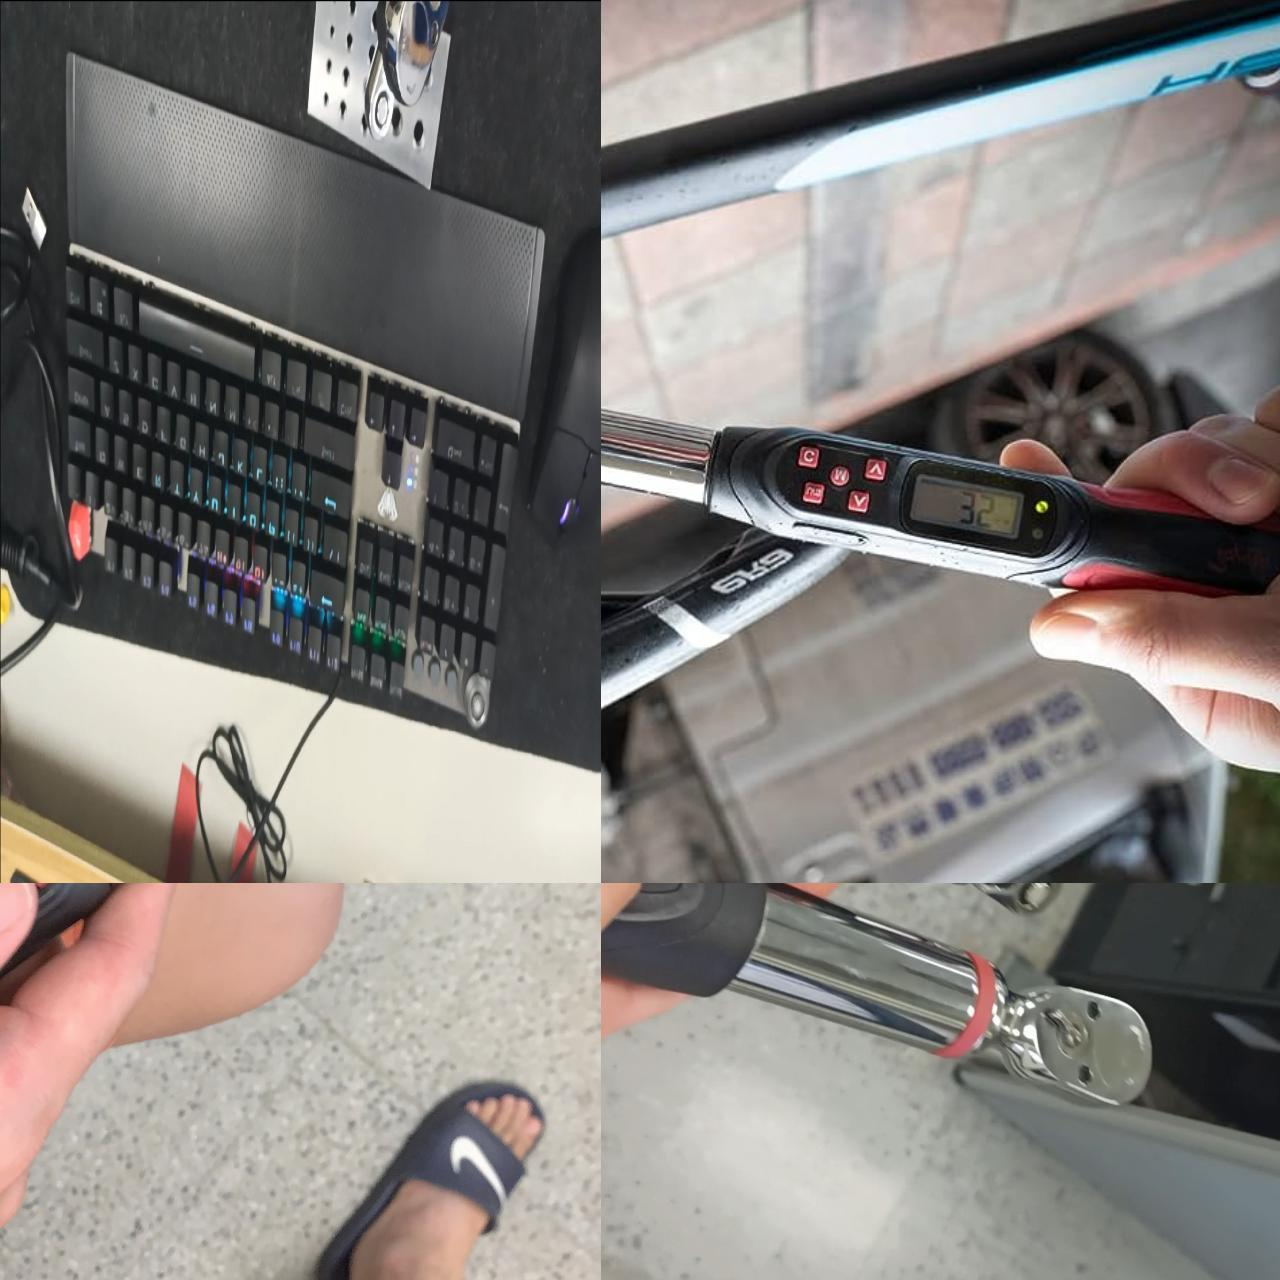Tool: (972, 974, 1150, 1099), (978, 883, 1061, 925)
